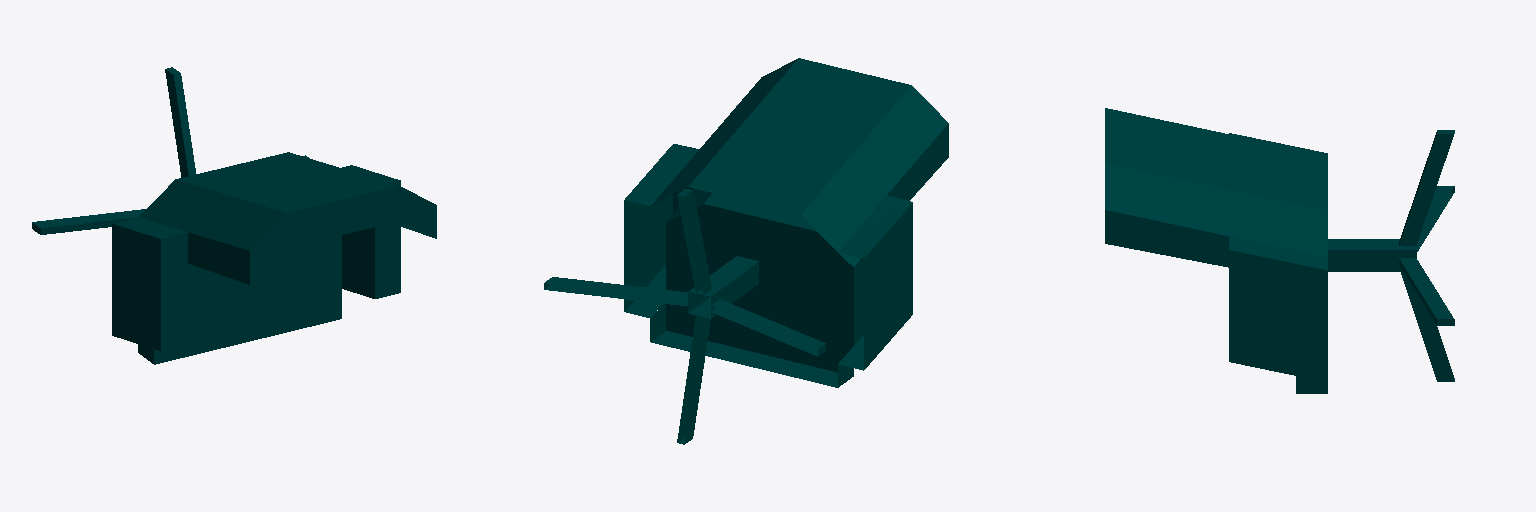
The model's file is chair5.obj.
The picture shows the model from 3 angles: view 1: azimuth 30°, elevation 25°; view 2: azimuth 150°, elevation 25°; view 3: azimuth 270°, elevation 25°; orthographic projection.
Visible parts, largest first — view 1: CHAIR03; view 2: CHAIR03; view 3: CHAIR03.
Boxes of the visible parts, x1=… form: CHAIR03: x1=32, y1=67, x2=436, y2=364; CHAIR03: x1=544, y1=58, x2=948, y2=444; CHAIR03: x1=1105, y1=108, x2=1454, y2=393.
Bounding box in the file's own units: 876 × 759 × 968.